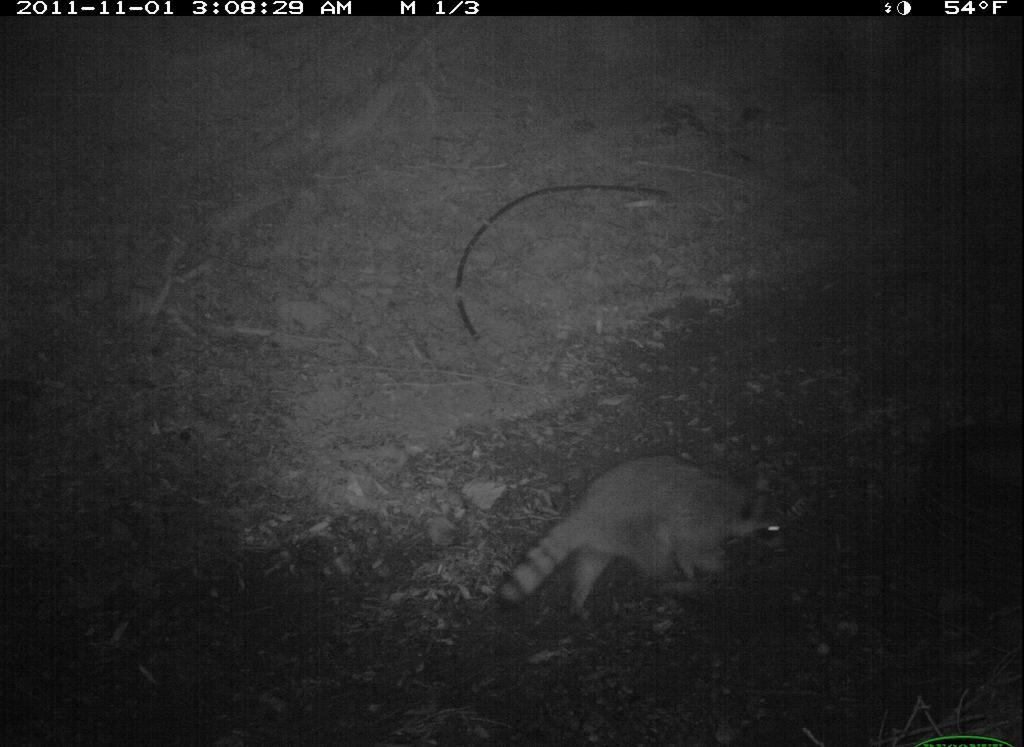raccoon: (486, 450, 797, 635)
